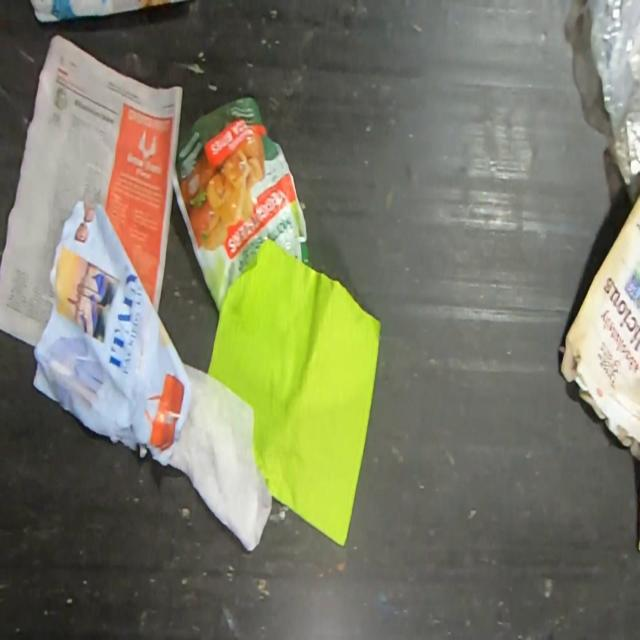cardboard: (560, 194, 640, 461)
rigid_plastic: (588, 0, 640, 205)
soft_plastic: (170, 95, 310, 316)
